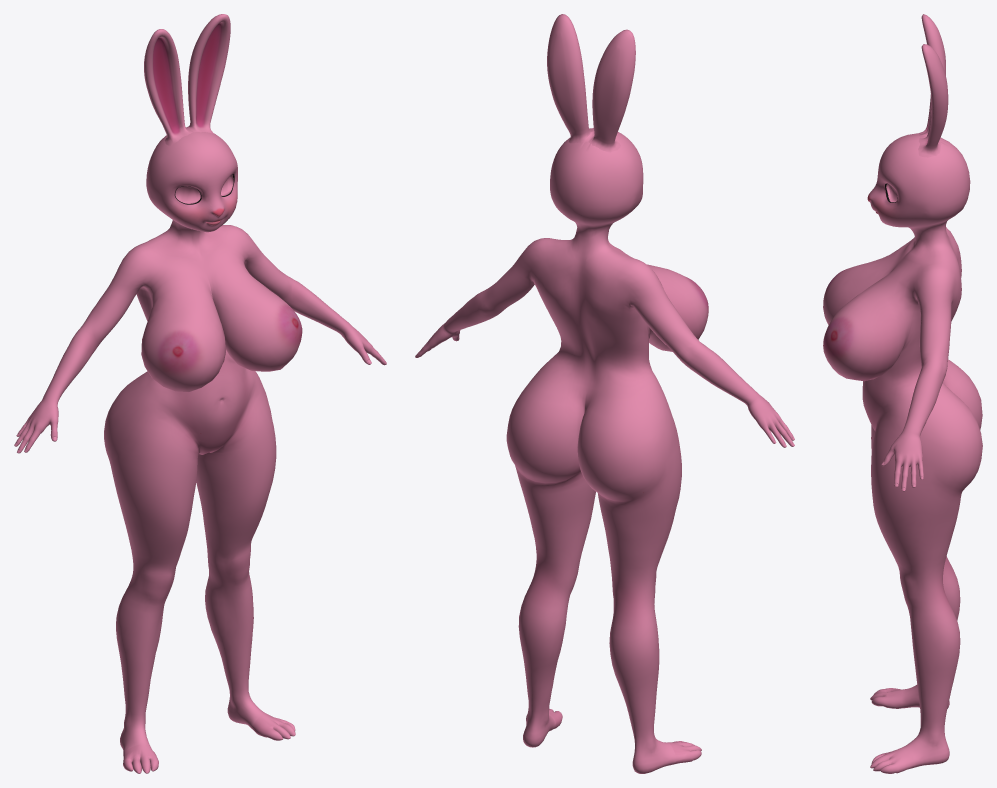
The model's file is yin.glb.
3 views of the same model, side by side, from view 1: azimuth 30°, elevation 25°; view 2: azimuth 150°, elevation 25°; view 3: azimuth 270°, elevation 25° (orthographic). The views are drawn at different scales.
Parts seen in each view (by area): view 1: YIN_Cuerpo; view 2: YIN_Cuerpo; view 3: YIN_Cuerpo.
Boxes of the visible parts, <box> form: YIN_Cuerpo: <box>14,14,386,773</box>; YIN_Cuerpo: <box>415,14,794,773</box>; YIN_Cuerpo: <box>823,14,982,773</box>.
Size of the model in its own units: 1.15 by 2.14 by 0.4378.
Materials: 6 (6 with a texture image).
